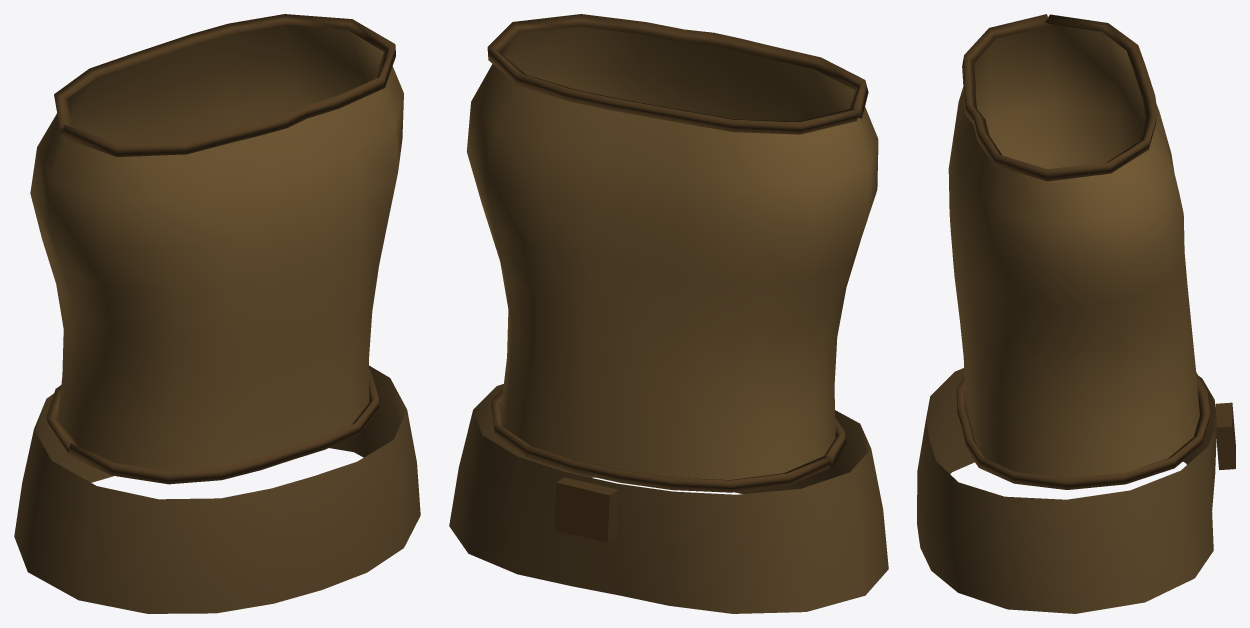
The model's file is mining_shirt.glb.
3 views of the same model, side by side, from view 1: azimuth 30°, elevation 25°; view 2: azimuth 150°, elevation 25°; view 3: azimuth 270°, elevation 25° (orthographic). The views are drawn at different scales.
Visible parts, largest first — view 1: mining_shirt_chest; view 2: mining_shirt_chest; view 3: mining_shirt_chest.
Boxes of the visible parts, left/top/right/bottom form: mining_shirt_chest: left=14, top=14, right=420, bottom=613; mining_shirt_chest: left=449, top=14, right=888, bottom=613; mining_shirt_chest: left=917, top=14, right=1235, bottom=613.
Bounding box in the file's own units: 0.4427 × 0.5256 × 0.3387.
